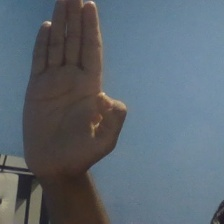B: (19, 1, 131, 184)
